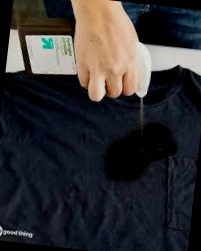oil: (105, 121, 176, 179)
